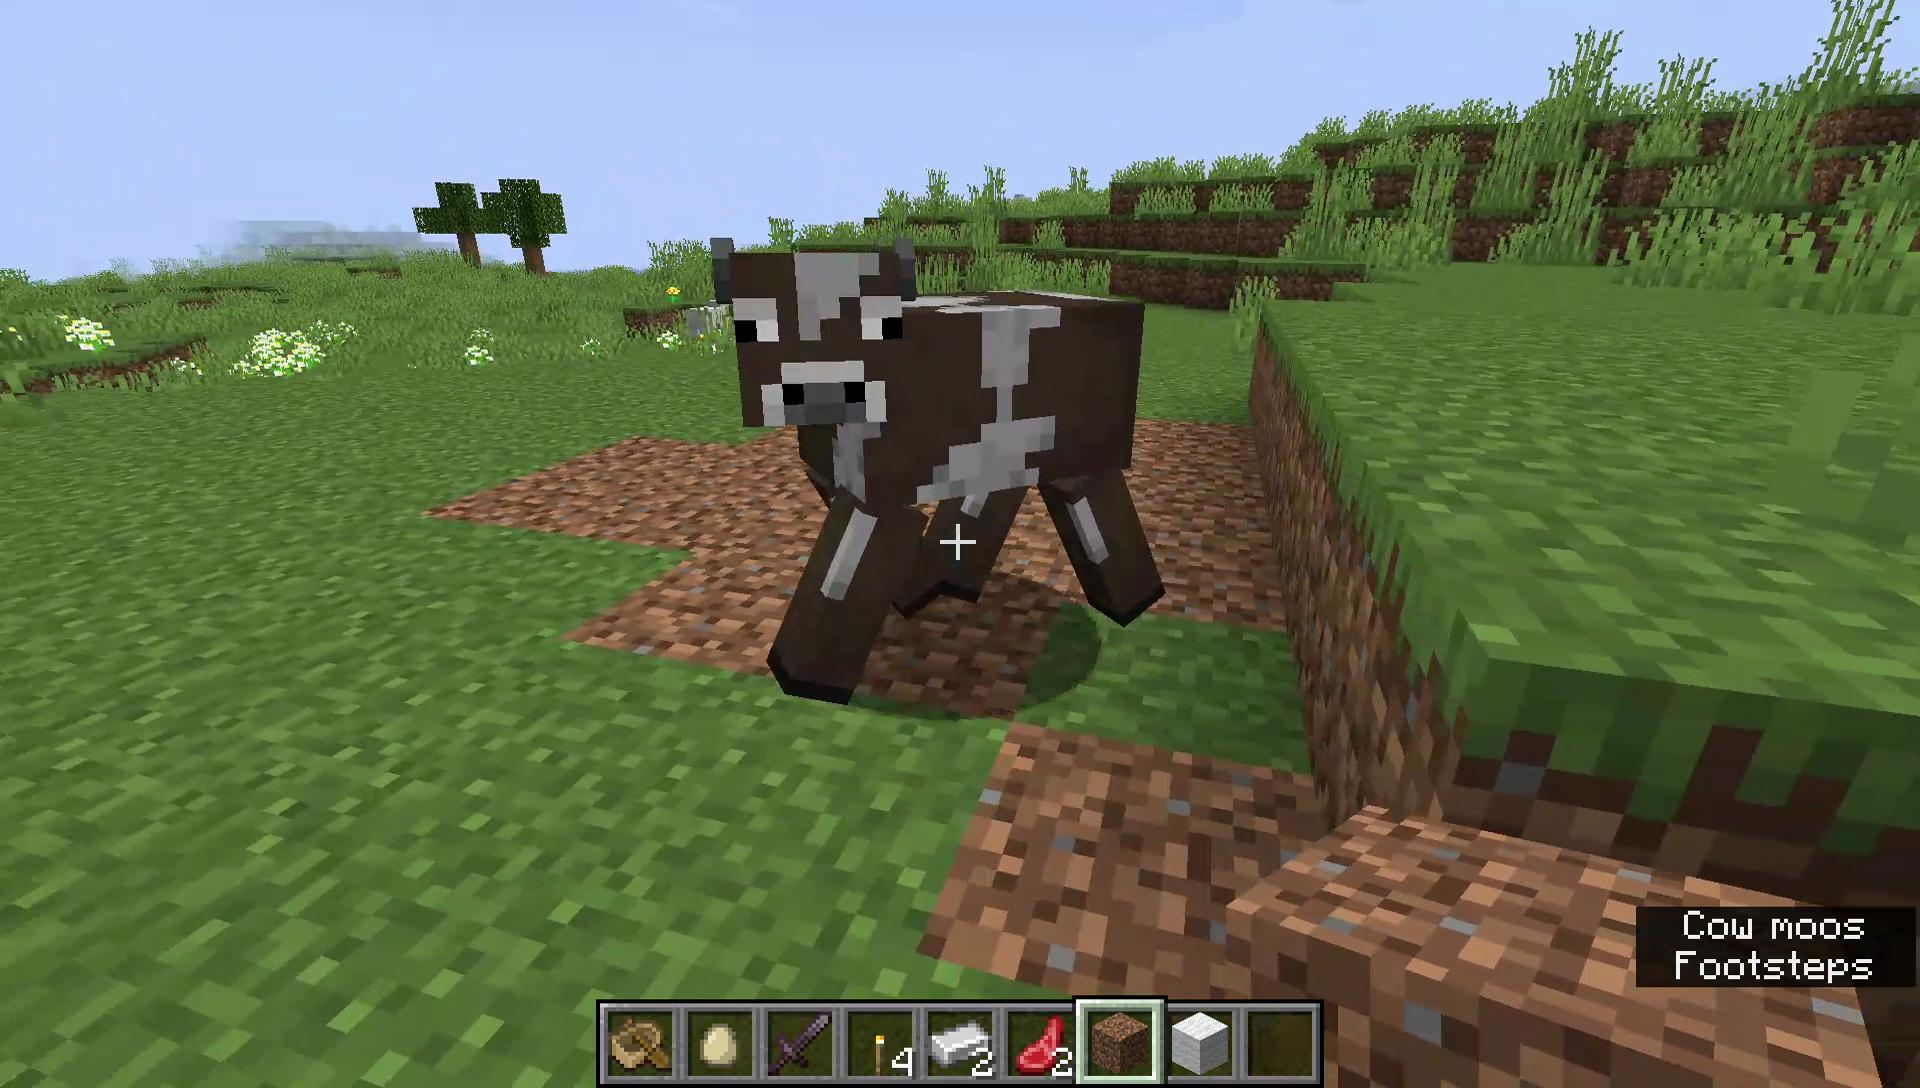cow: (703, 224, 1175, 708)
